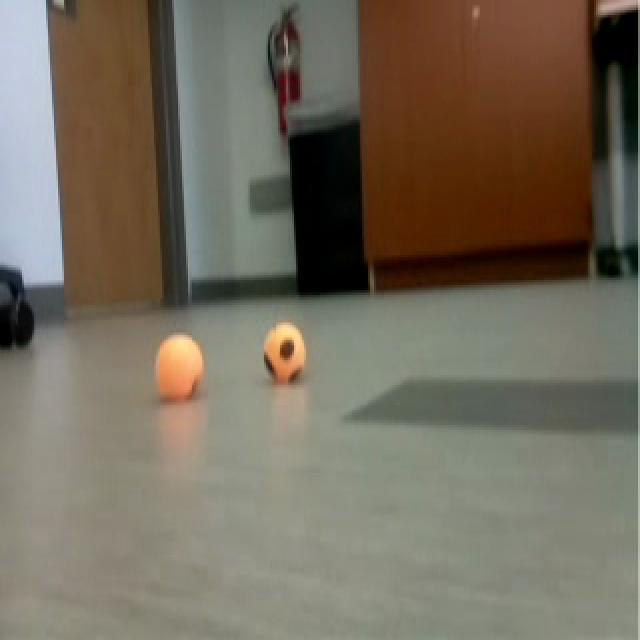oball: (148, 330, 206, 410), (262, 320, 308, 386)
